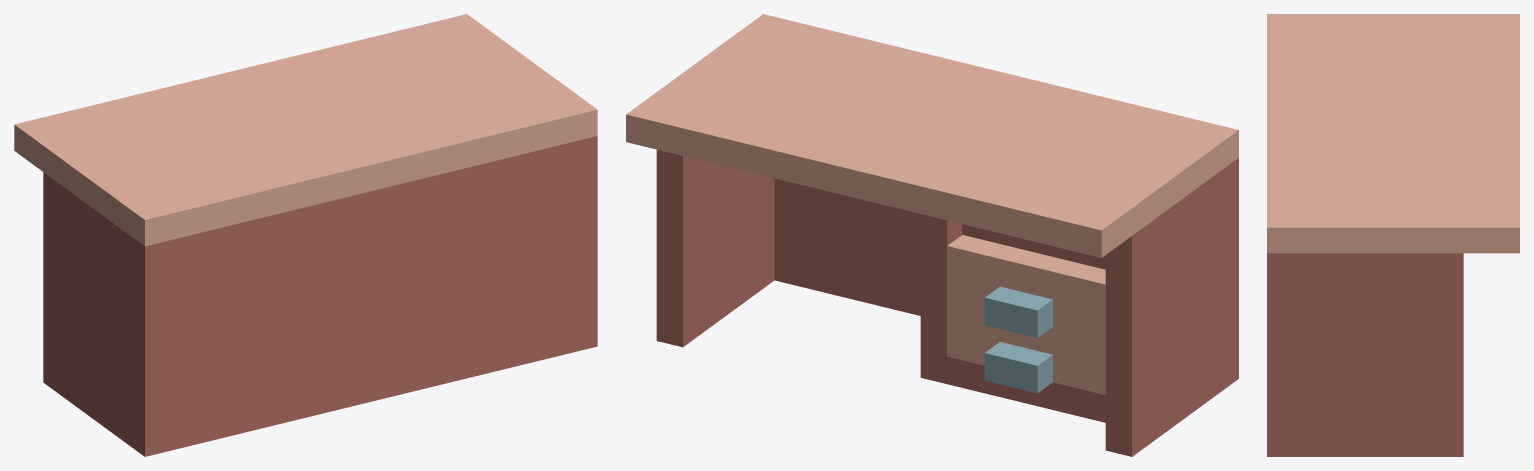
Rendered from desk.obj.
3 renders of one model, left to right at view 1: azimuth 30°, elevation 25°; view 2: azimuth 150°, elevation 25°; view 3: azimuth 270°, elevation 25°, orthographic. The views are drawn at different scales.
Visible parts, largest first — view 1: desk; view 2: desk; view 3: desk.
Boxes of the visible parts, left/top/right/bottom form: desk: left=14, top=14, right=597, bottom=456; desk: left=626, top=14, right=1238, bottom=456; desk: left=1267, top=14, right=1519, bottom=456.
Size of the model in its own units: 1.8 by 0.9 by 0.9.
